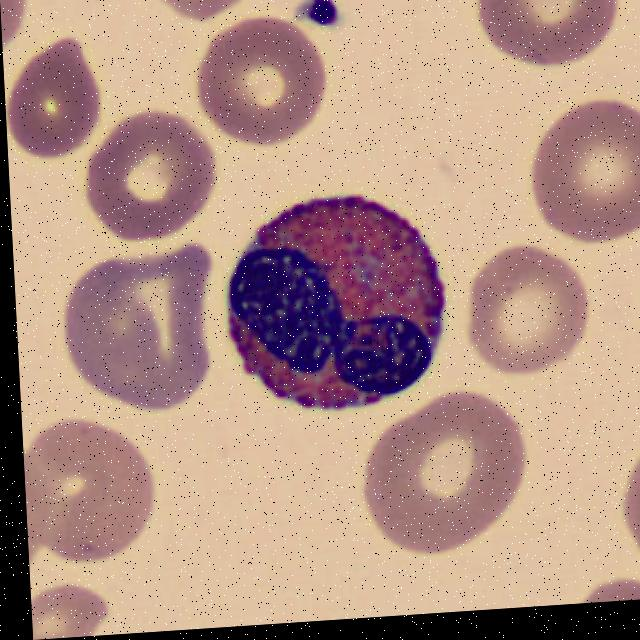eosinophil: (222, 185, 462, 429)
rbc: (366, 388, 539, 543), (60, 248, 216, 410), (26, 413, 161, 566), (2, 19, 114, 181), (193, 12, 329, 143), (88, 109, 222, 237), (529, 96, 640, 245), (470, 241, 591, 362), (467, 0, 625, 77), (30, 580, 118, 640), (616, 436, 640, 570), (132, 0, 258, 25), (575, 565, 640, 604)
